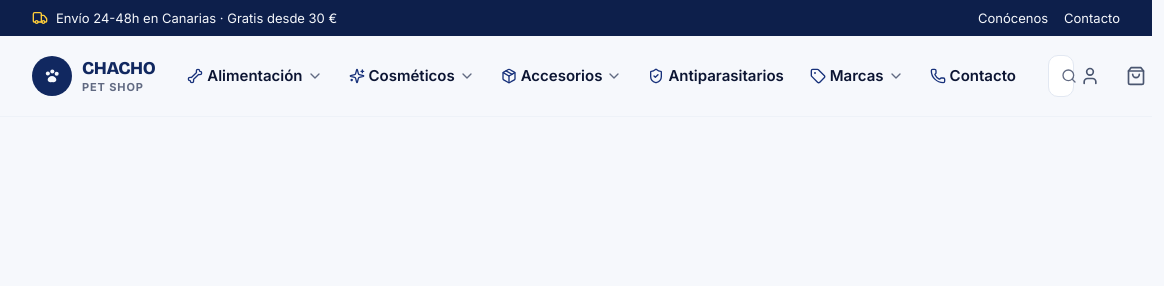
it: el menú superior se anuncia y es navegable › Escape cierra el menú abierto
Hover over the button "Alimentación" at (255, 76), box x1=175 y1=56 x2=335 y2=96
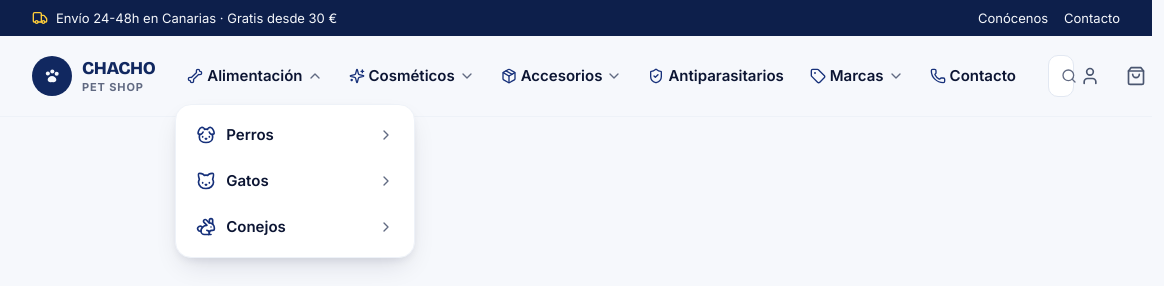
Result: the button "Alimentación" is expanded at x1=175 y1=56 x2=335 y2=96
Press Escape
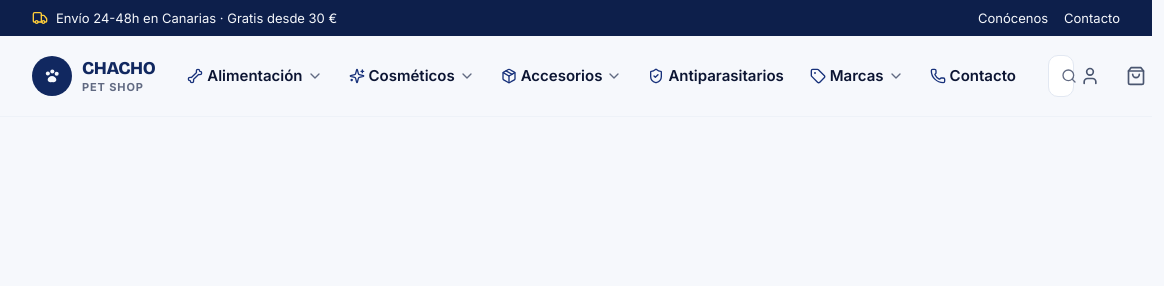
Result: the button "Alimentación" is collapsed at x1=175 y1=56 x2=335 y2=96
